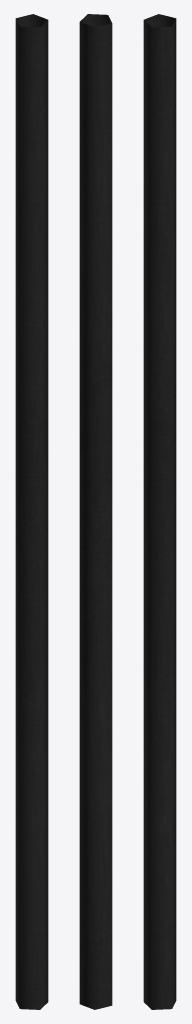
Rendered from prp_powerlines.FBX.
3 renders of one model, left to right at view 1: azimuth 30°, elevation 25°; view 2: azimuth 210°, elevation 25°; view 3: azimuth 330°, elevation 25°, orthographic.
Parts seen in each view (by area): view 1: prp_powerlines; view 2: prp_powerlines; view 3: prp_powerlines.
Boxes of the visible parts, x1=… form: prp_powerlines: x1=15, y1=14, x2=48, y2=1009; prp_powerlines: x1=79, y1=14, x2=112, y2=1009; prp_powerlines: x1=143, y1=14, x2=176, y2=1009.
Size of the model in its own units: 6.04 by 5.75 by 200.
